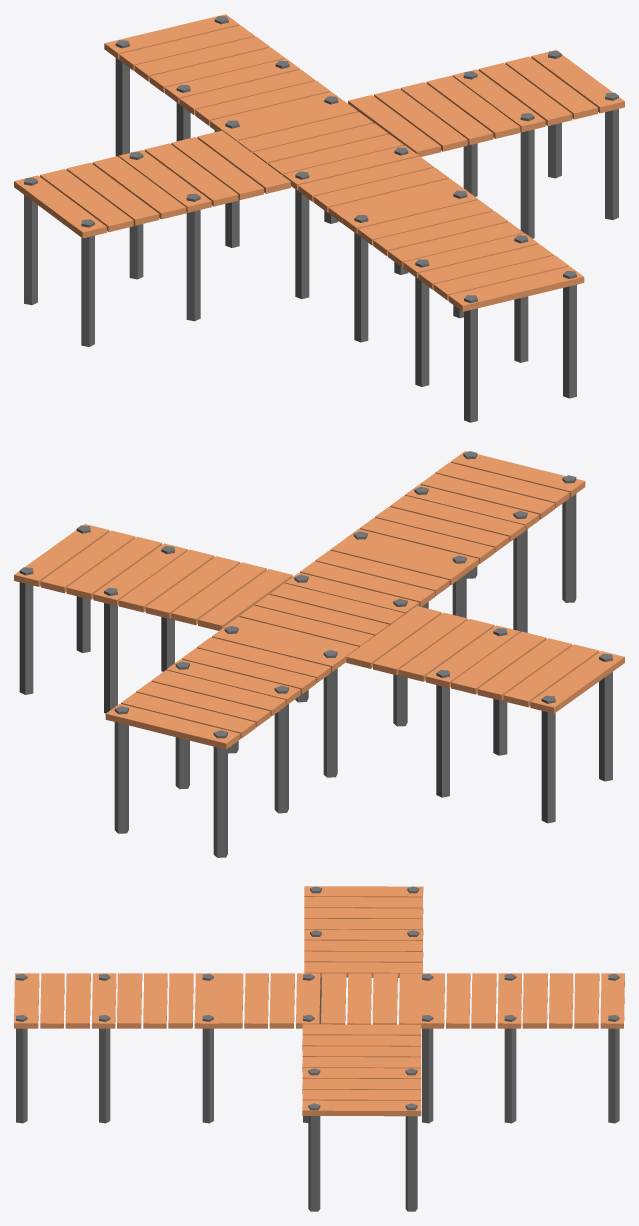
The model's file is muelle.glb.
3 views of the same model, one above another, from view 1: azimuth 30°, elevation 25°; view 2: azimuth 150°, elevation 25°; view 3: azimuth 270°, elevation 25° (orthographic). The views are drawn at different scales.
Parts seen in each view (by area): view 1: muelle; view 2: muelle; view 3: muelle.
Boxes of the visible parts, x1,y1,x2,y2 form: muelle: (14,14,624,422); muelle: (14,451,624,857); muelle: (14,886,624,1211).
Size of the model in its own units: 40.84 by 8.77 by 46.89.
